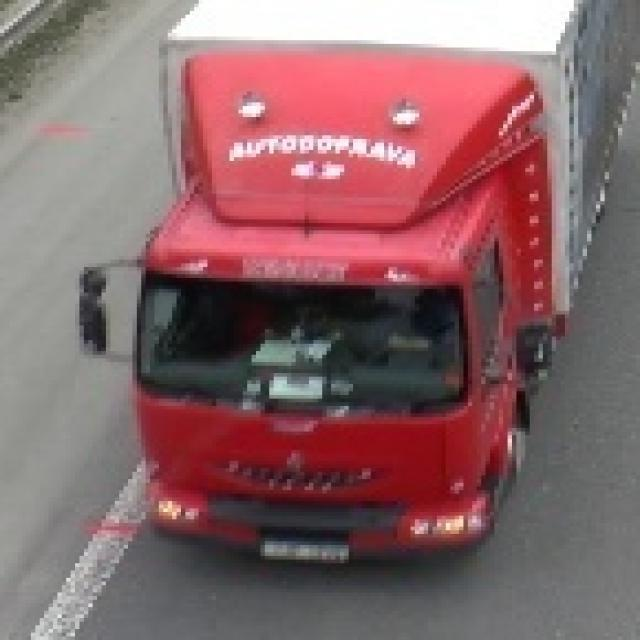Truck: (88, 0, 640, 571)
